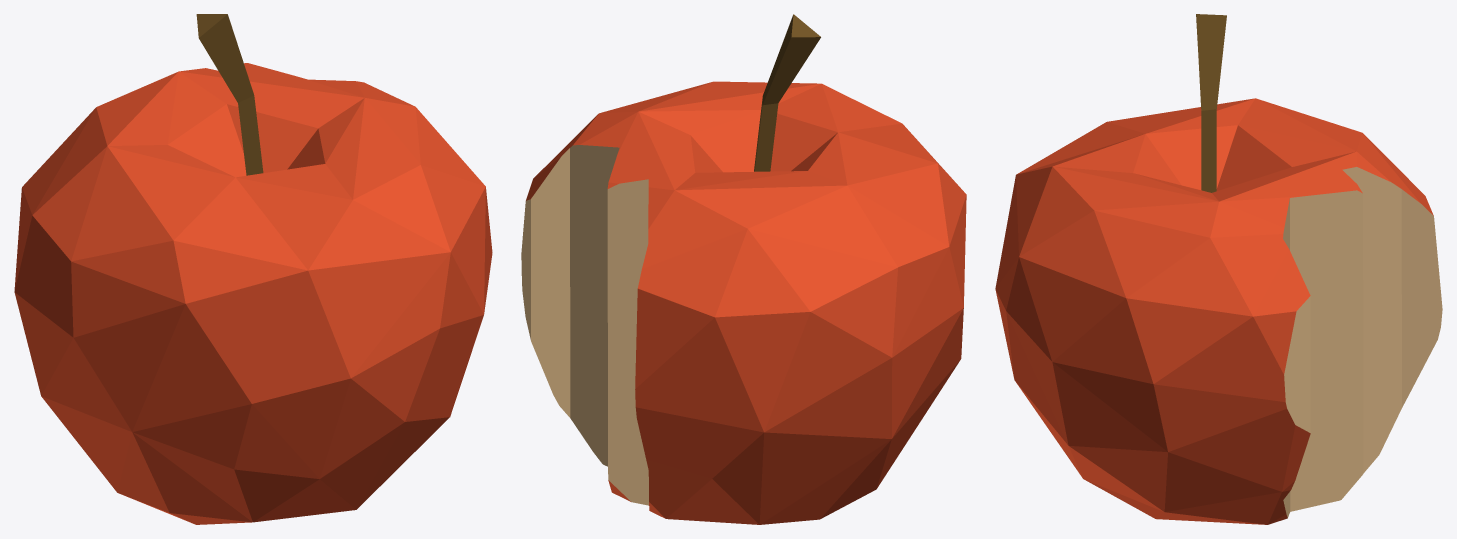
The model's file is BittenApple.glb.
The picture shows the model from 3 angles, left to right: view 1: azimuth 30°, elevation 25°; view 2: azimuth 150°, elevation 25°; view 3: azimuth 270°, elevation 25°; orthographic projection. The views are drawn at different scales.
Parts seen in each view (by area): view 1: BittenApple; view 2: BittenApple; view 3: BittenApple.
Boxes of the visible parts, x1,y1,x2,y2 form: BittenApple: (14,14,492,524); BittenApple: (521,14,966,524); BittenApple: (995,14,1442,524).
Bounding box in the file's own units: 0.1154 × 0.1315 × 0.1181.
